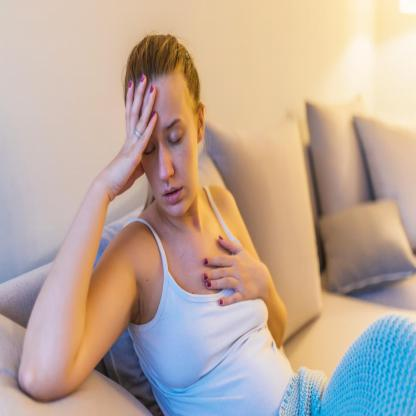pain: (135, 110, 188, 160)
